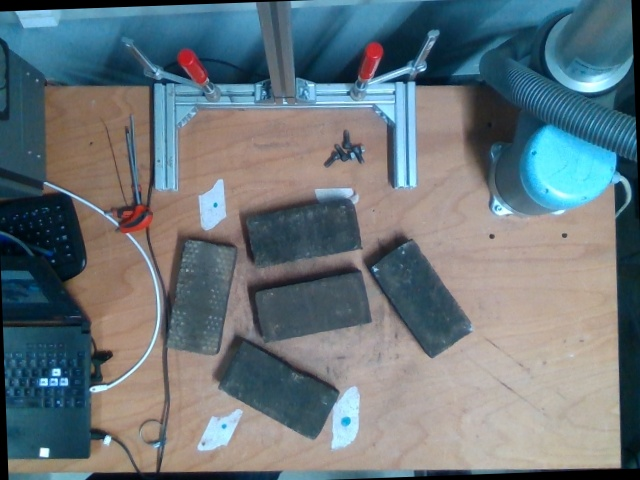brick: (370, 240, 471, 358), (220, 347, 332, 436), (245, 201, 362, 266), (168, 243, 233, 352), (257, 275, 365, 338)
